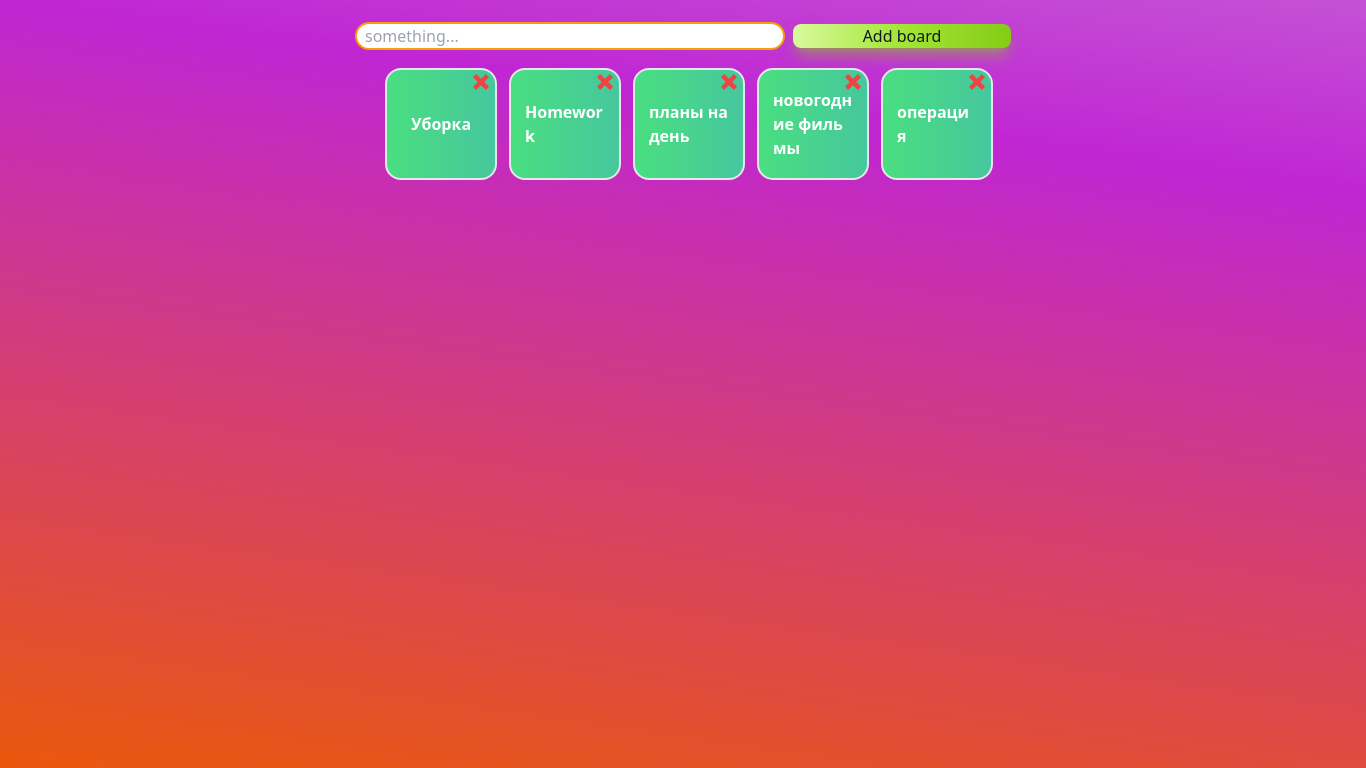
it: boards › Доски
Expected: the button with test id "buton" is shown, top-left (793, 24), bottom-right (1011, 48)
add board
Type "Board 2" into the field with placeholder "something..." at (570, 36), box top-left (355, 22), bottom-right (785, 50)
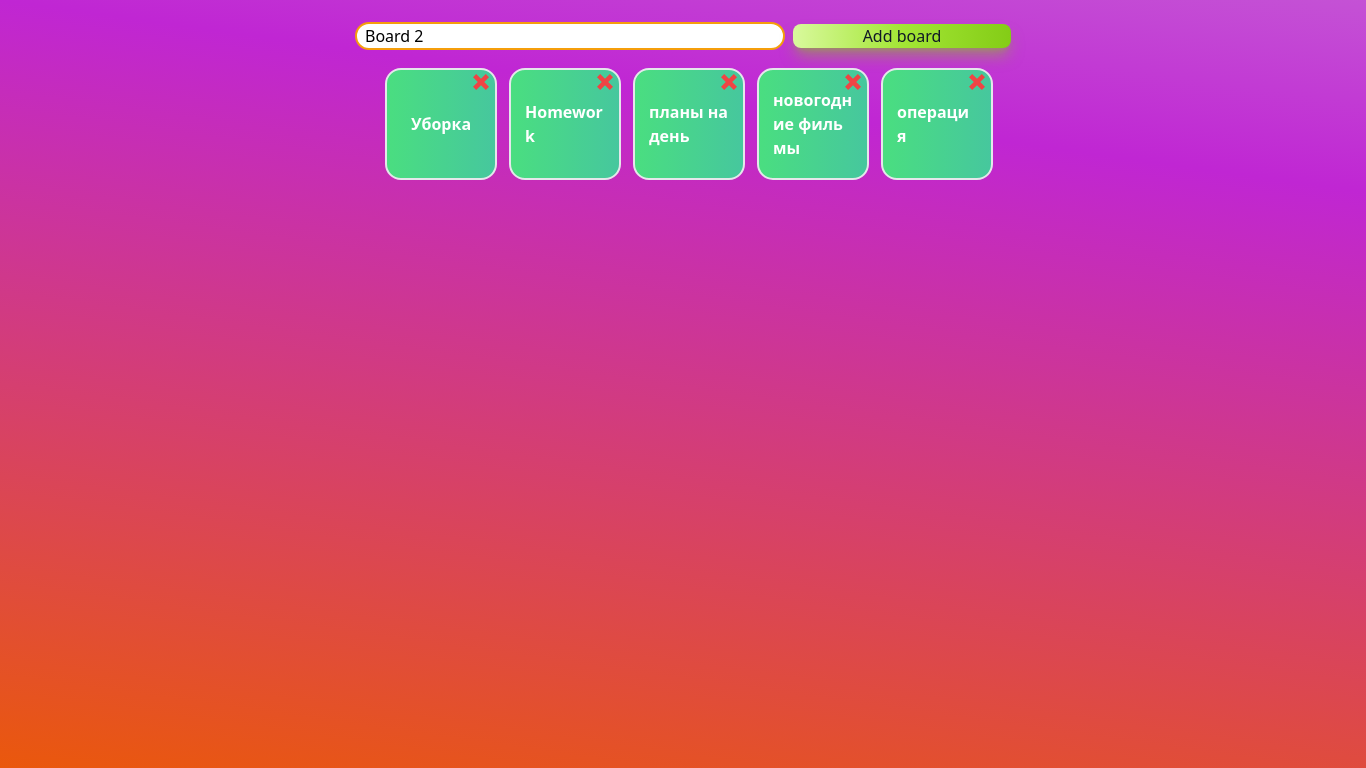
Click the button with test id "buton" at (902, 36), box top-left (793, 24), bottom-right (1011, 48)
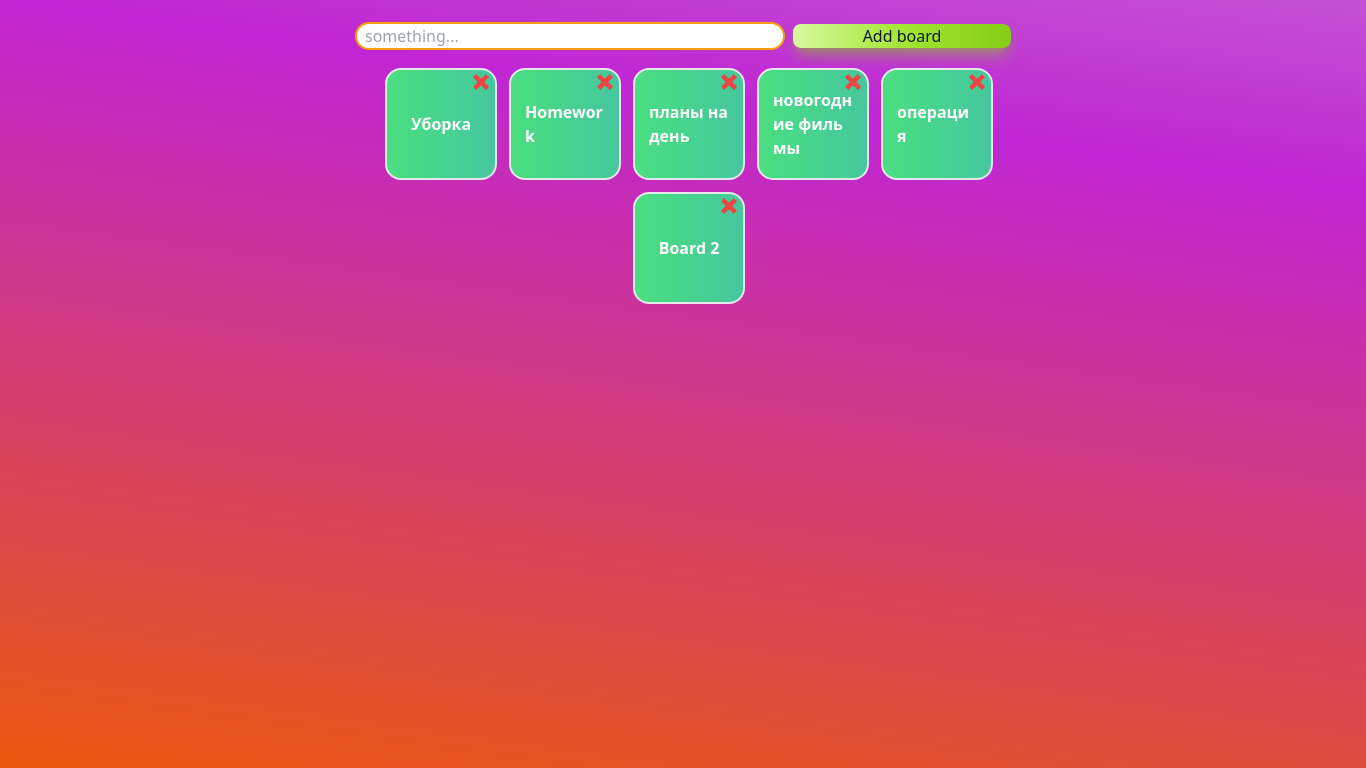
Expected: the element with test id "Board 2" is shown, top-left (633, 192), bottom-right (745, 304)
Expected: the button with test id "btn-Board 2" is shown
Click the button with test id "btn-Board 2" at (729, 206), box top-left (721, 198), bottom-right (737, 214)
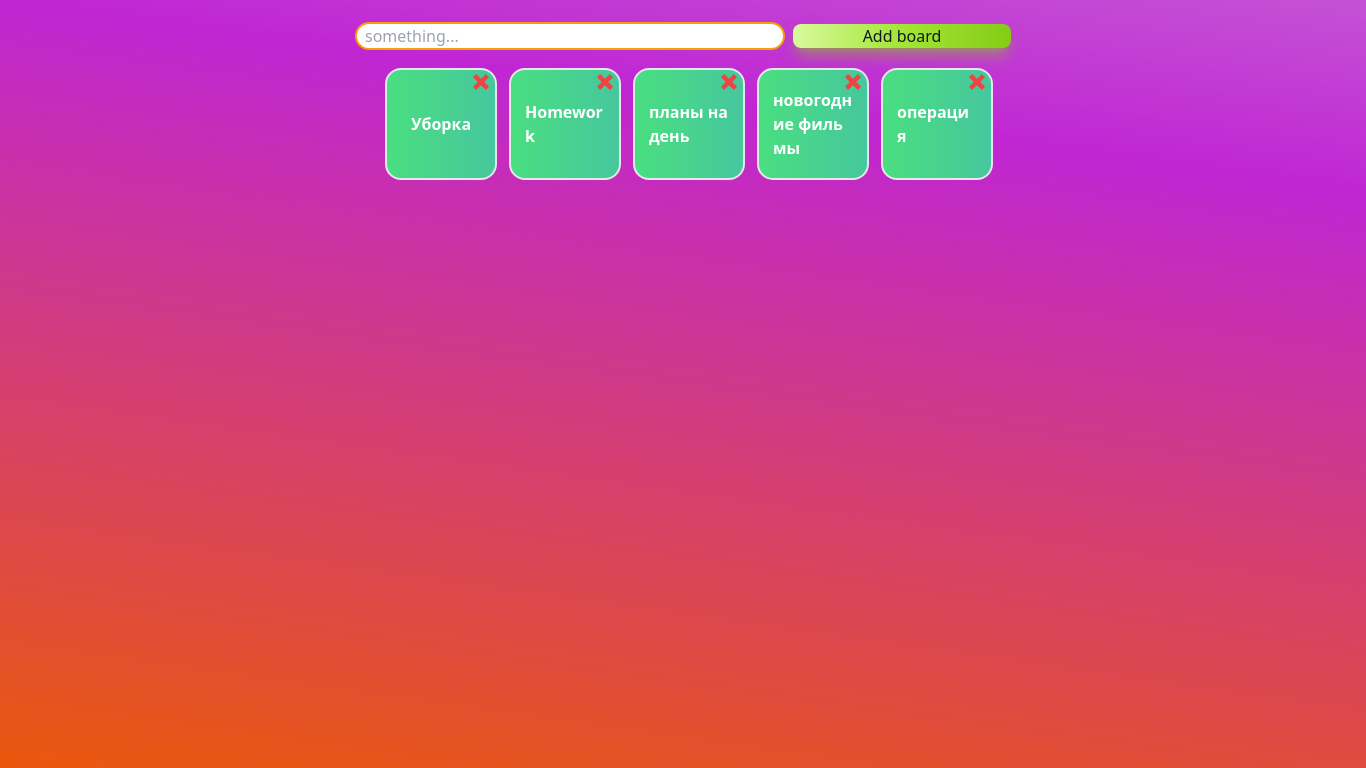
Expected: the link "Board 2" is gone
